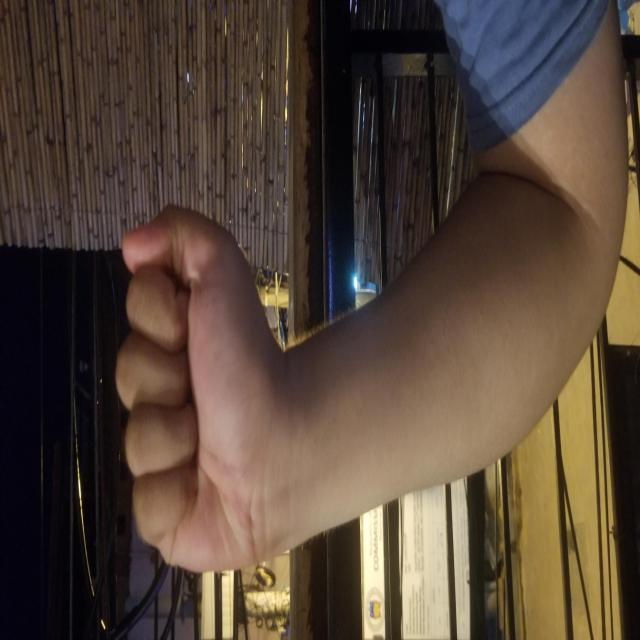A: (59, 117, 438, 272)
